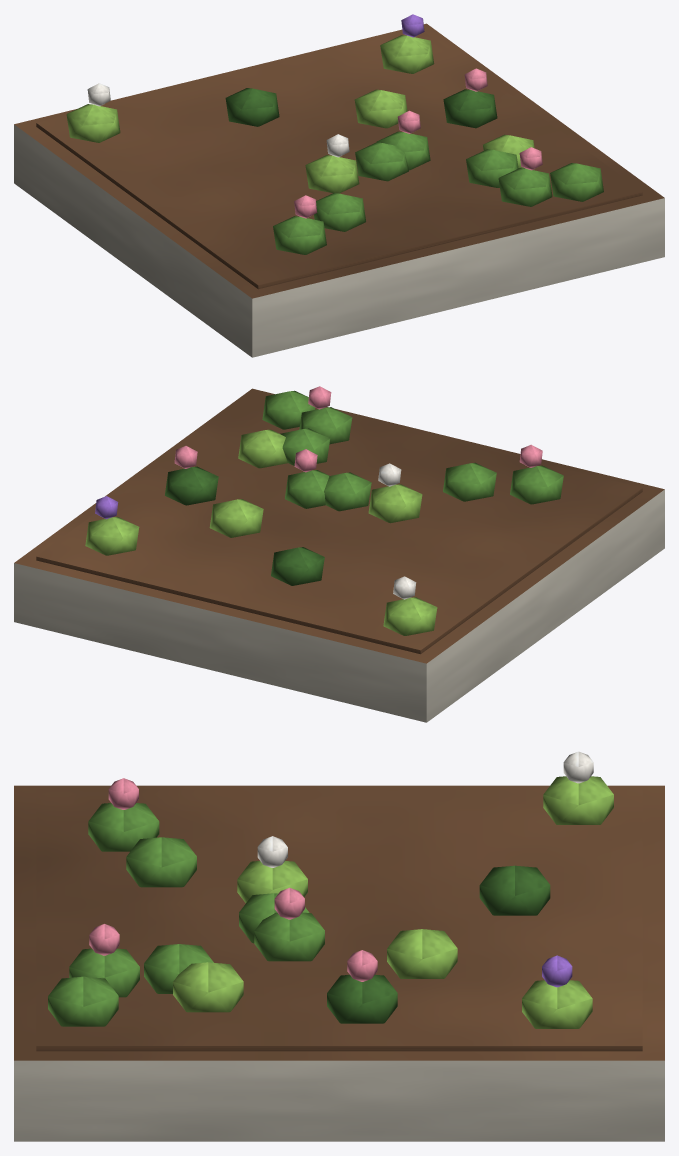
The model's file is flowerbed_02.glb.
3 views of the same model, one above another, from view 1: azimuth 30°, elevation 25°; view 2: azimuth 150°, elevation 25°; view 3: azimuth 270°, elevation 25° (orthographic). The views are drawn at different scales.
Visible parts, largest first — view 1: flowerbed_02; view 2: flowerbed_02; view 3: flowerbed_02.
Boxes of the visible parts, x1,y1,x2,y2 form: flowerbed_02: (14, 14, 664, 357); flowerbed_02: (14, 386, 664, 722); flowerbed_02: (14, 751, 664, 1141).
Bounding box in the file's own units: 2.19 × 0.56 × 2.19.
Materials: 1 (1 with a texture image).
